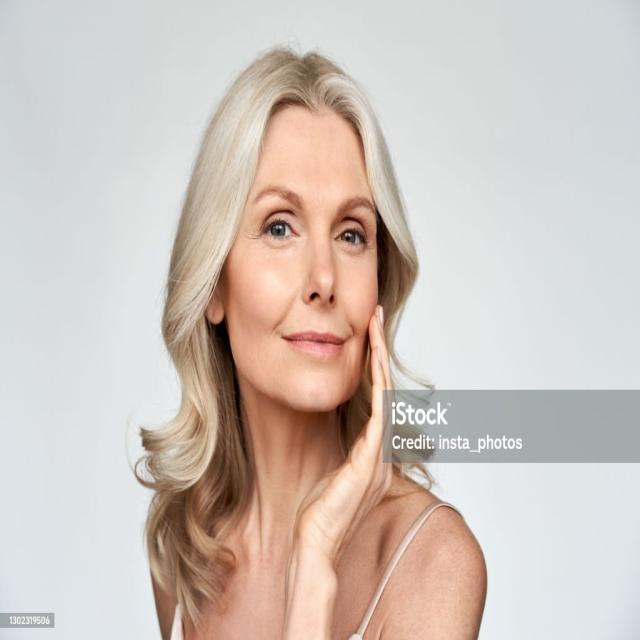Dry-Skin: (280, 122, 358, 194), (228, 222, 264, 281)
